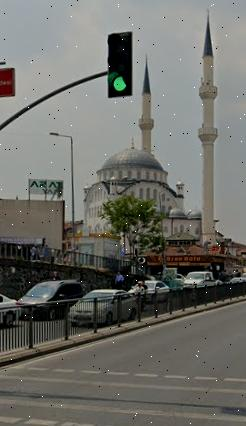greenlight: (108, 33, 132, 95)
